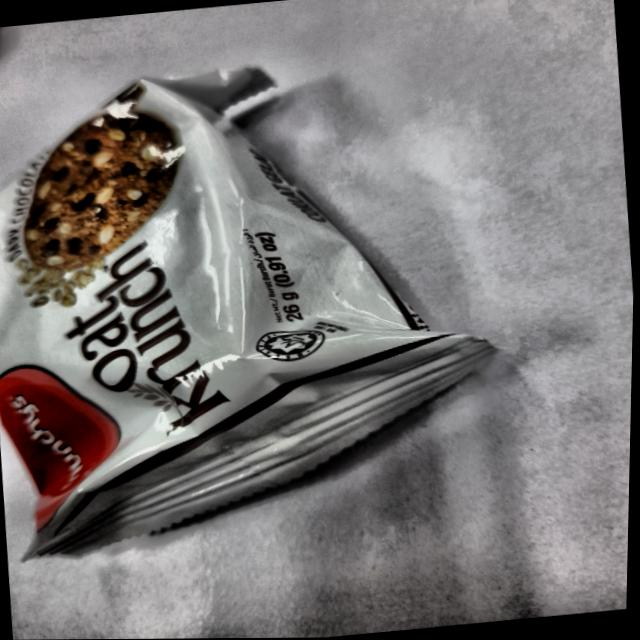Plastic: (0, 44, 530, 520)
